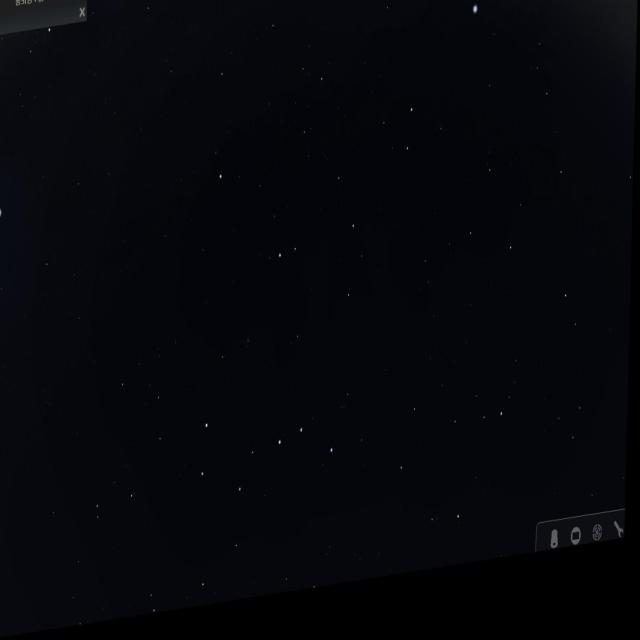ursa_major: (193, 396, 343, 524)
